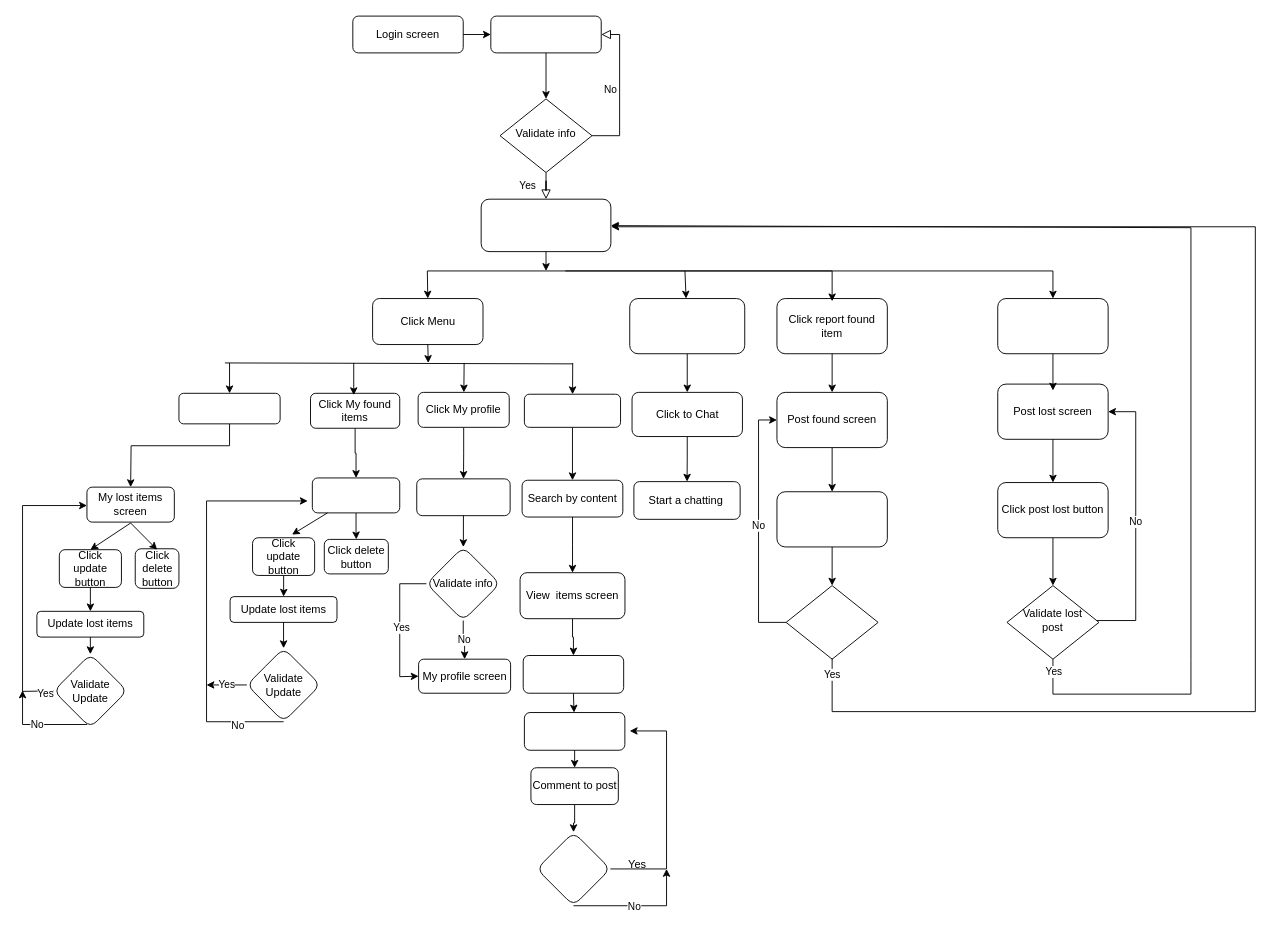
Image size: 1279x929. Some labels were removed from this diagram. Each missing label, with the box of its shape:
Click login button: (490, 15, 601, 53)
Click My lost items: (178, 392, 280, 424)
Click post found button: (776, 491, 887, 547)
Click report lost item: (997, 298, 1108, 354)
Click Search: (523, 393, 621, 427)
Click to Other profile: (629, 298, 745, 354)
Click to post: (522, 655, 624, 693)
Home screen: (480, 198, 611, 252)
My found items screen: (311, 477, 400, 513)
Update info: (416, 478, 510, 516)
Validate comment: (536, 831, 610, 906)
Validate found post: (785, 585, 878, 659)
View post: (523, 712, 625, 750)
